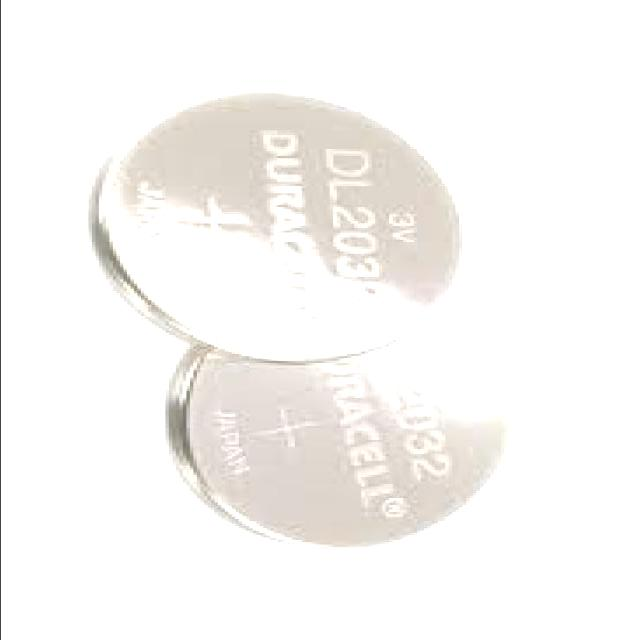COIN: (91, 90, 469, 364), (168, 298, 521, 550)
